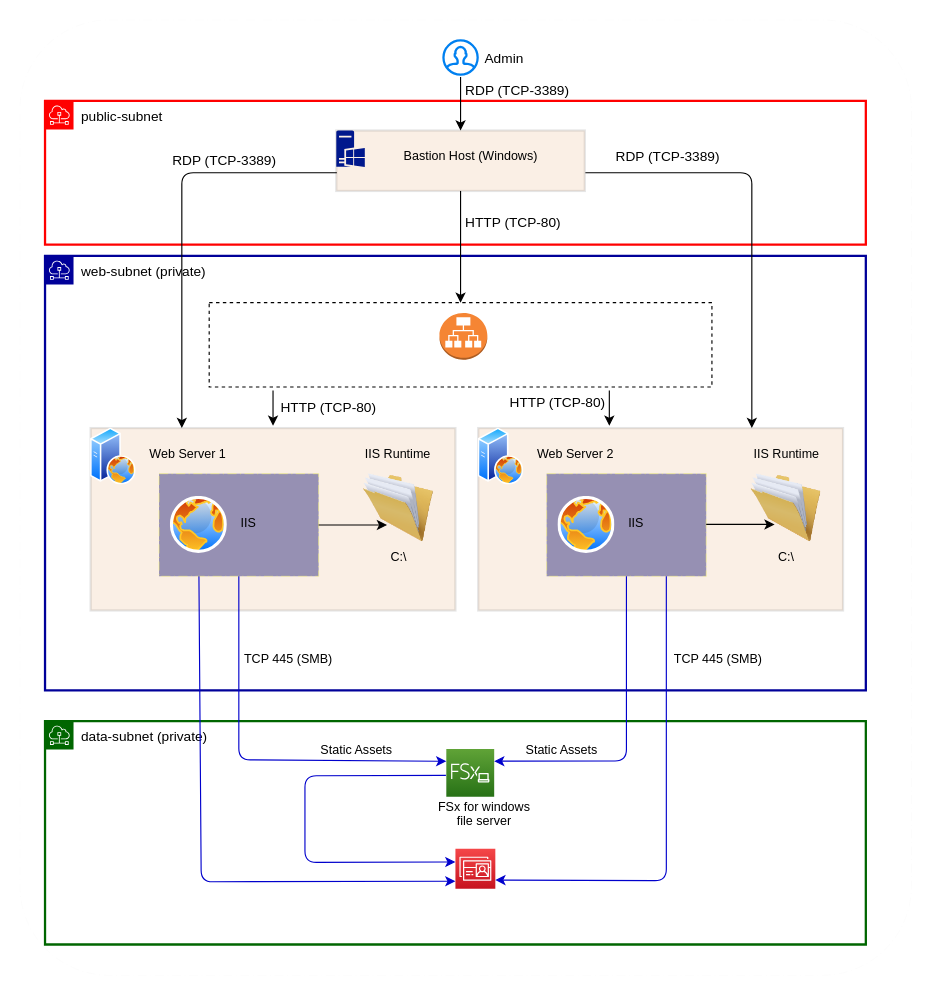
This 931x995 diagram has some shape labels left out. Each missing label, with the centre of its shape:
ALB: point 462,336
AWS Managed Microsoft AD: point 474,868
